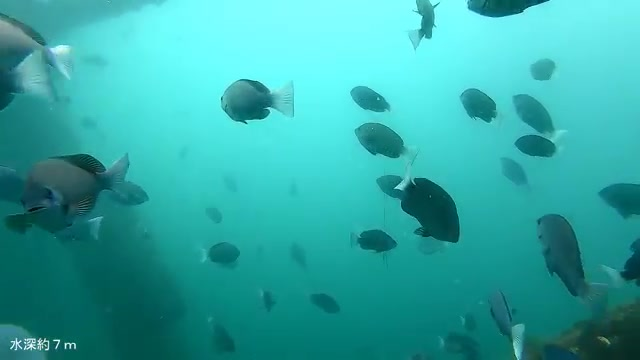gure: (203, 64, 310, 130), (349, 116, 421, 162)
smallfish: (194, 229, 245, 270)
